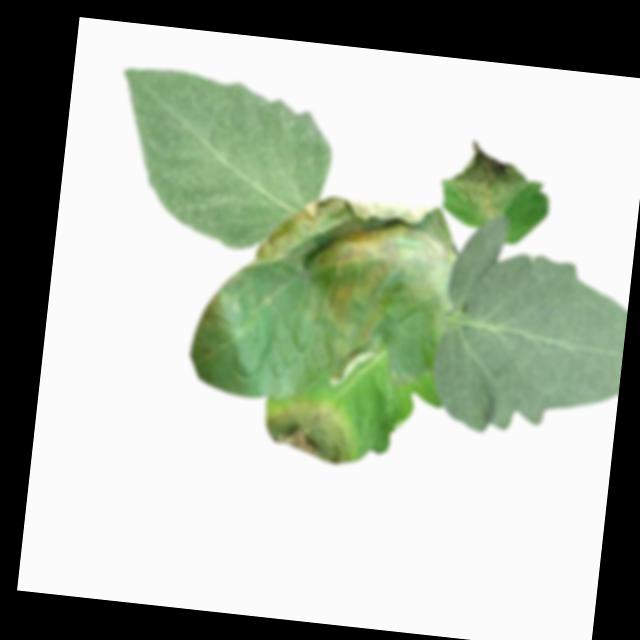Late_blight: (238, 186, 462, 345), (444, 138, 534, 226), (262, 394, 356, 469), (327, 344, 378, 390)
healthy: (428, 211, 635, 448), (104, 64, 341, 261)
